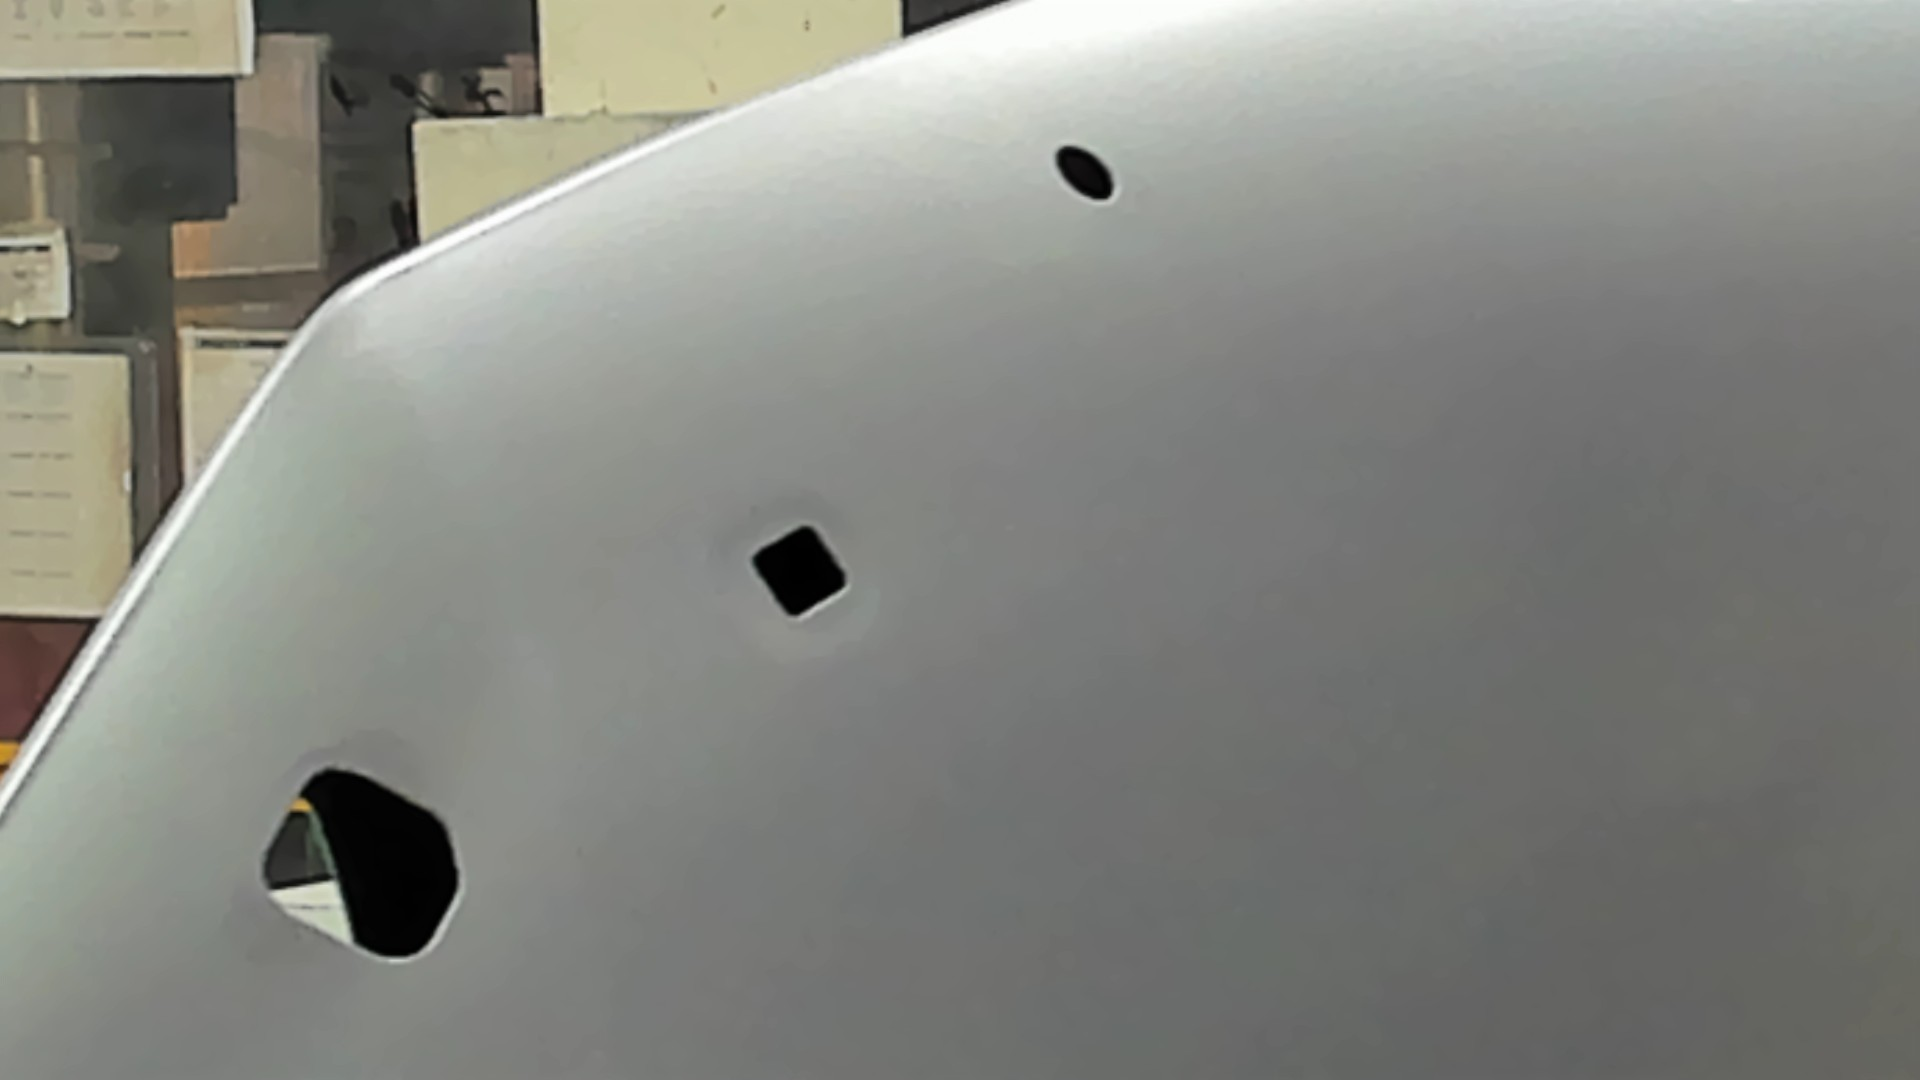chico: (1047, 137, 1120, 206)
grande: (252, 760, 469, 973)
mediano: (742, 518, 855, 626)
